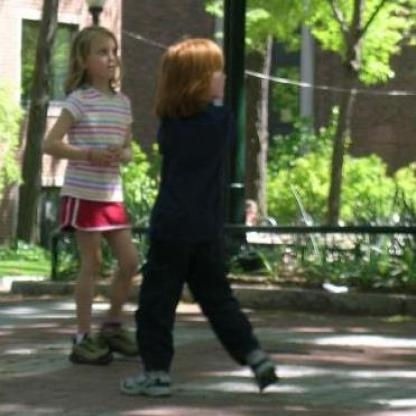person: (137, 33, 276, 399), (48, 23, 147, 365)
